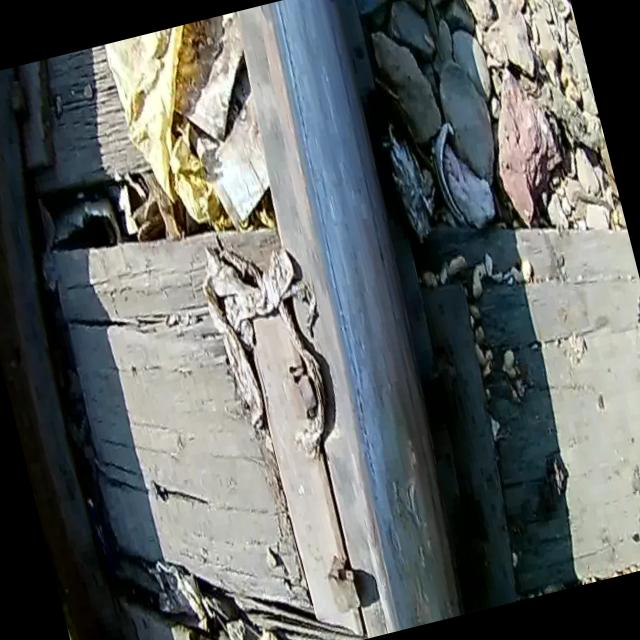Squats: (216, 0, 506, 637)
